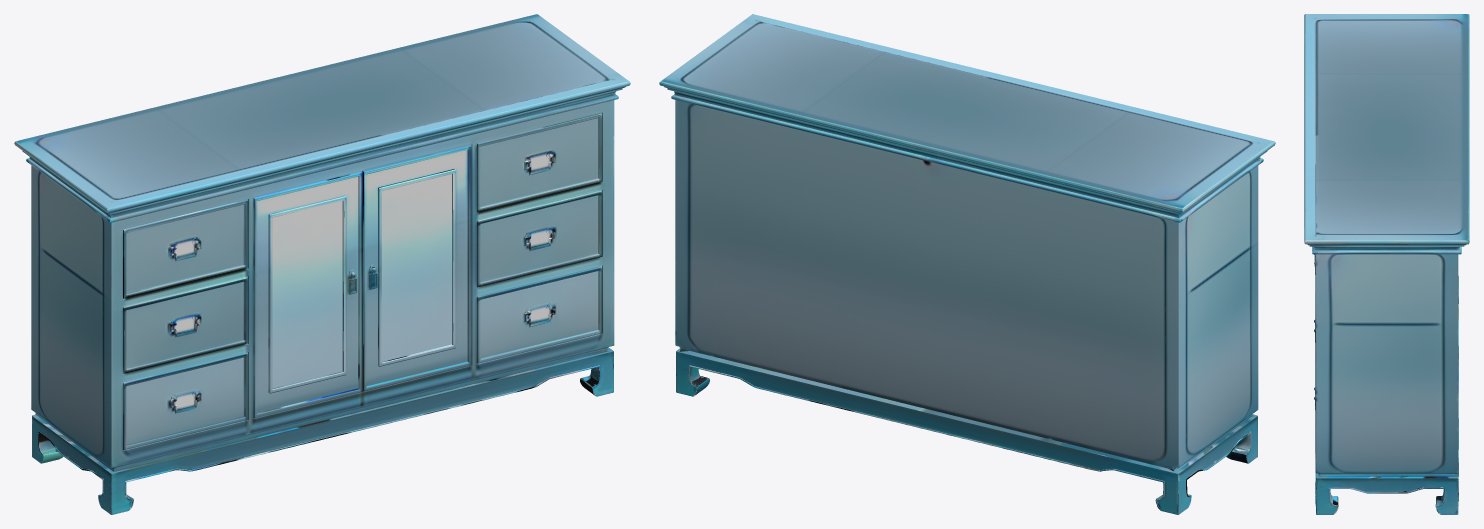
Rendered from edited_mesh.glb.
3 views of the same model, side by side, from view 1: azimuth 30°, elevation 25°; view 2: azimuth 150°, elevation 25°; view 3: azimuth 270°, elevation 25° (orthographic). The views are drawn at different scales.
Parts seen in each view (by area): view 1: solid_001_wire; view 2: solid_001_wire; view 3: solid_001_wire.
Part boxes in pixels (x1=…): solid_001_wire: x1=14, y1=14, x2=630, y2=514; solid_001_wire: x1=659, y1=14, x2=1275, y2=514; solid_001_wire: x1=1304, y1=14, x2=1469, y2=514.
Size of the model in its own units: 1.86 by 1.07 by 0.5733.
1 material, 1 textured.
